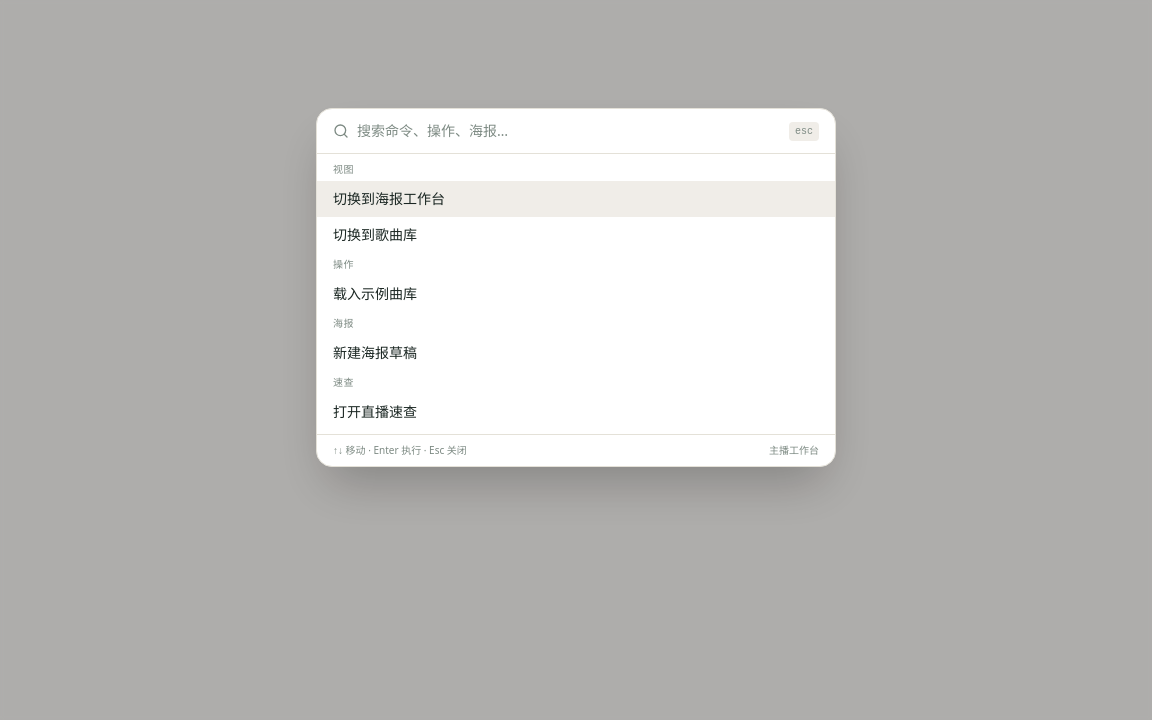
Scenario: CommandPalette 搜索过滤 › 无匹配显示空态
The image size is (1152, 720).
Type "xyz不存在" into the field with test id "command-palette-input" at (569, 131), box left=357, top=121, right=781, bottom=141
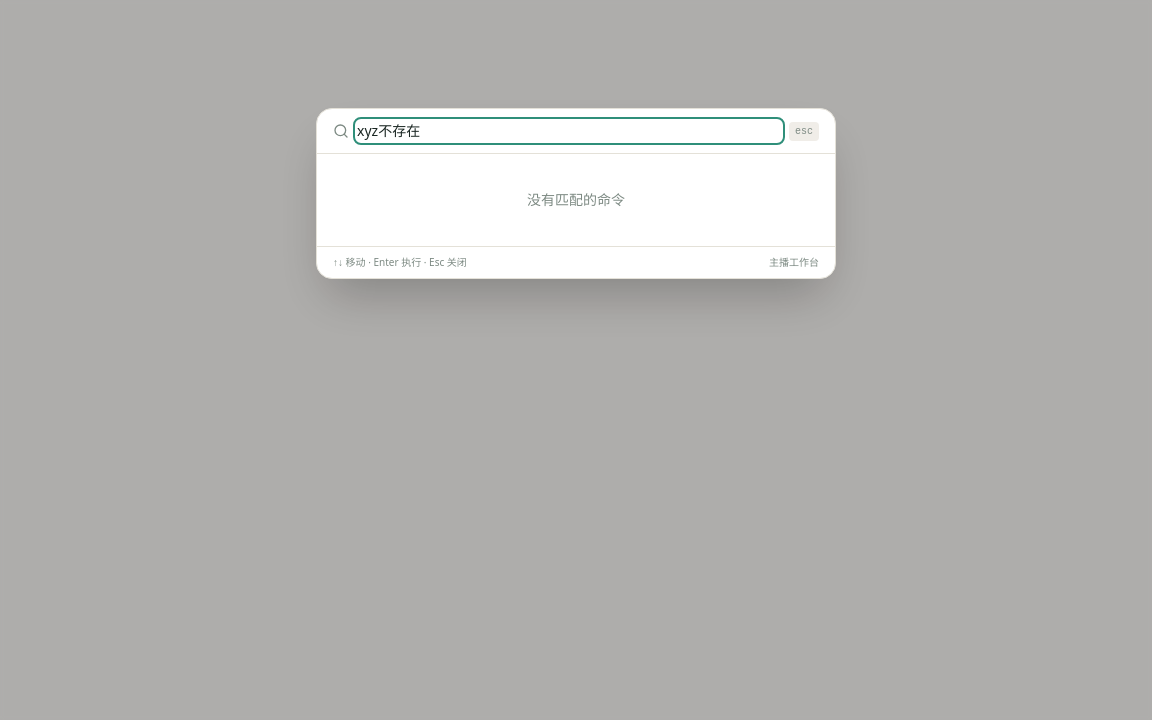
Expected: the text "没有匹配的命令" is shown, left=527, top=190, right=625, bottom=209
